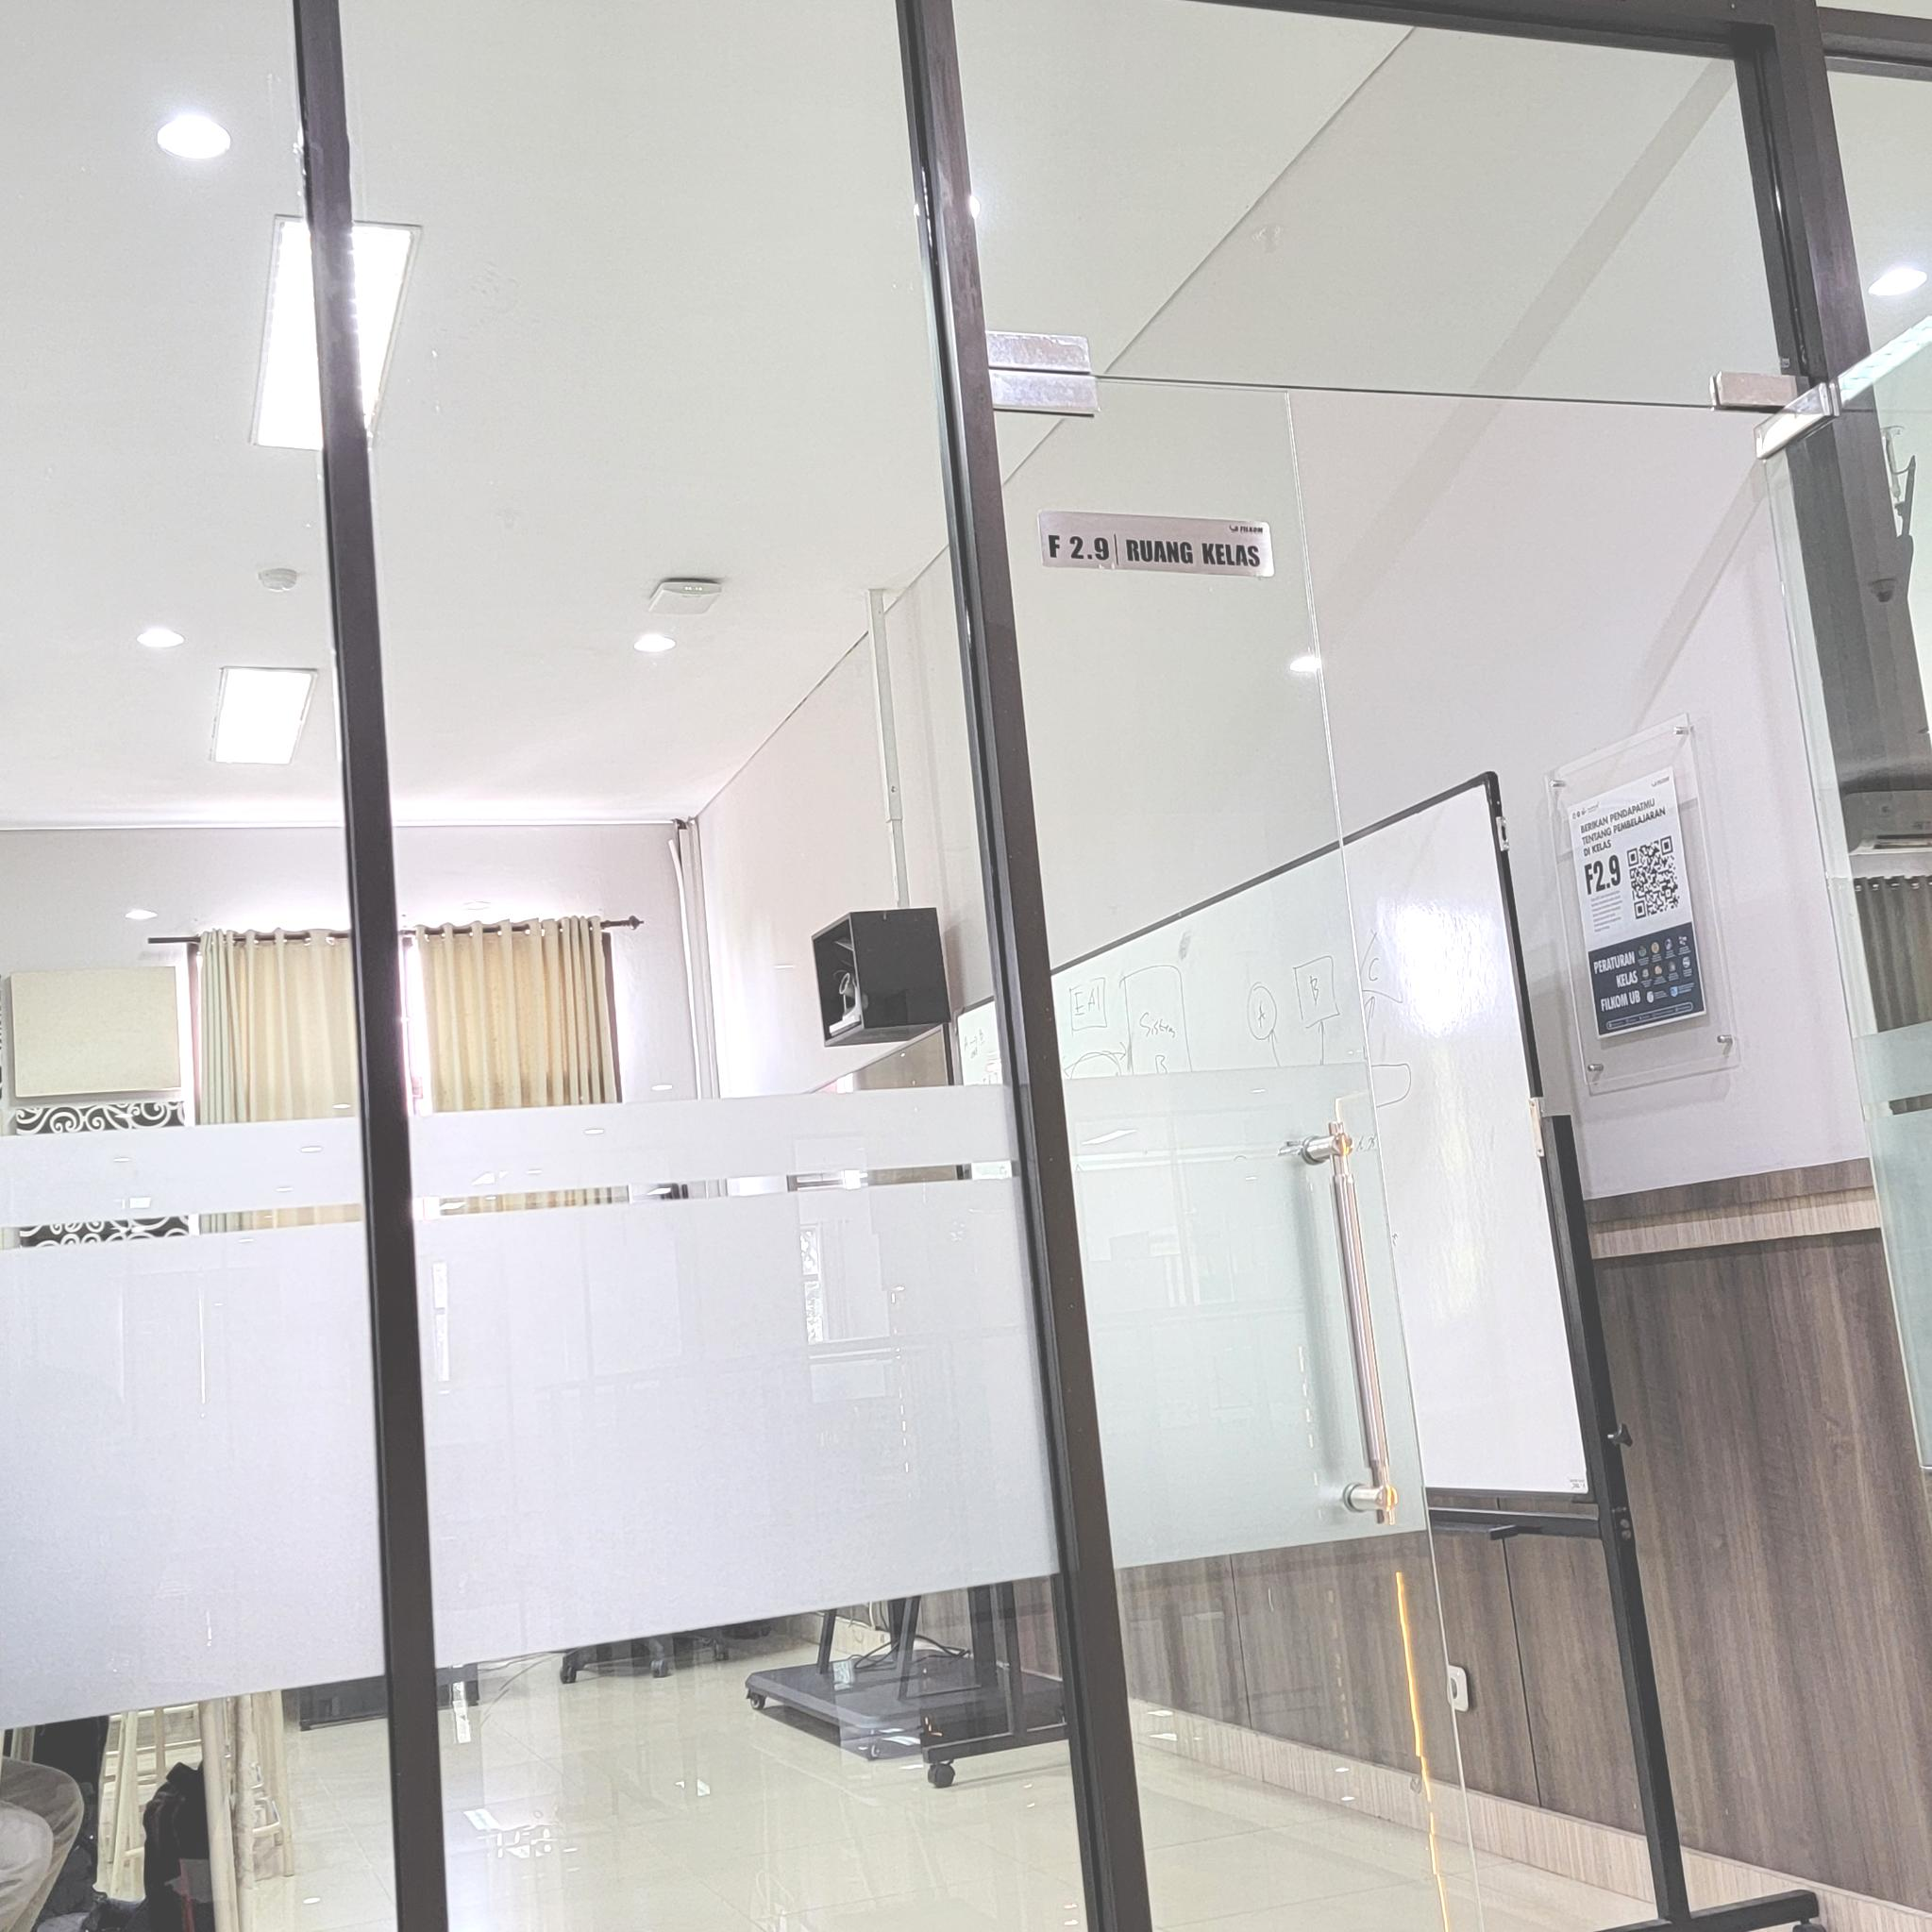plate: (1037, 511, 1277, 579)
